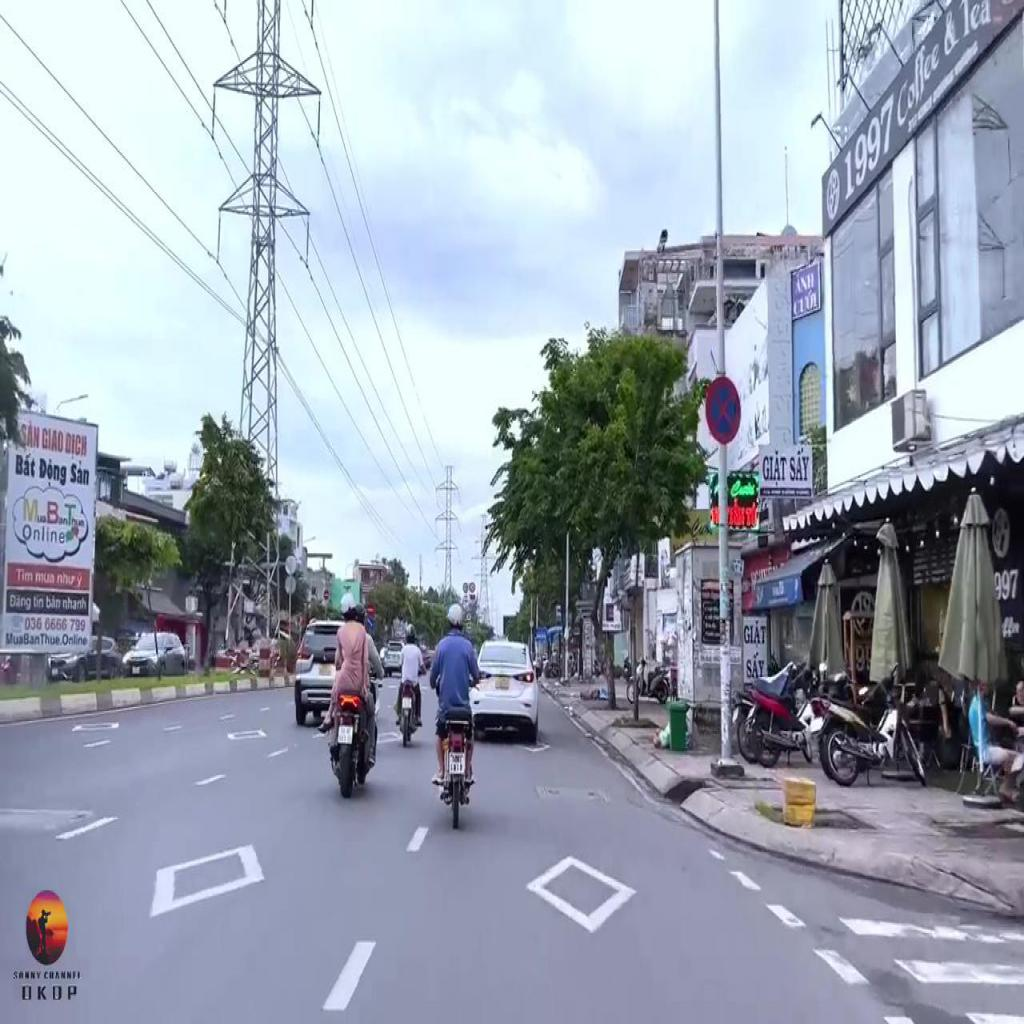cam_dung_xe_va_do_xe: (705, 374, 741, 445)
